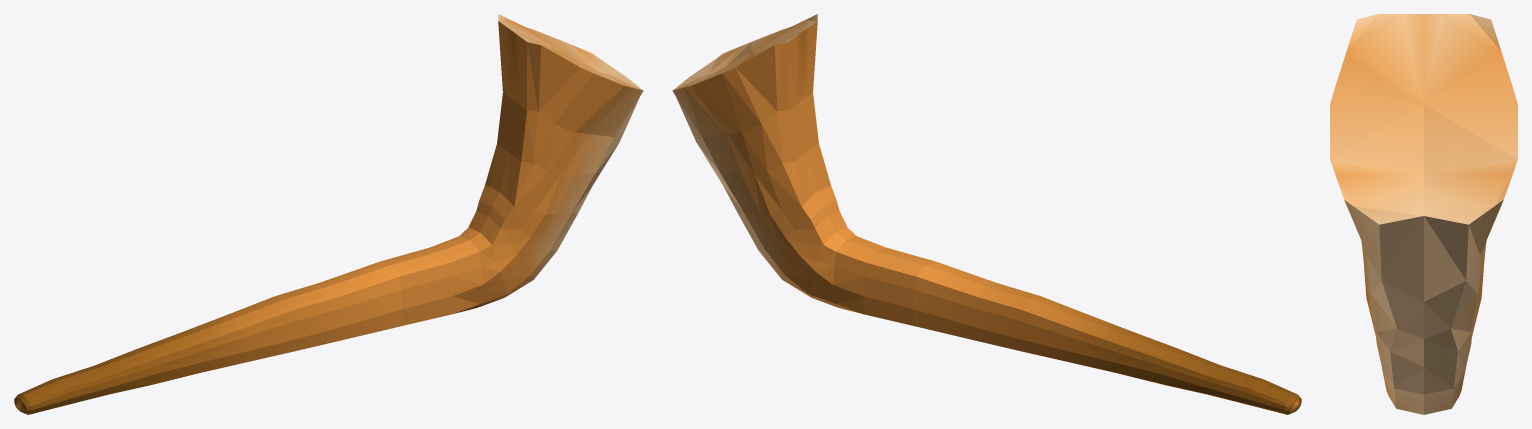
The model's file is kangaroo_tail.obj.
3 views of the same model, side by side, from view 1: azimuth 30°, elevation 25°; view 2: azimuth 150°, elevation 25°; view 3: azimuth 270°, elevation 25° (orthographic). The views are drawn at different scales.
Visible parts, largest first — view 1: Plane.003; view 2: Plane.003; view 3: Plane.003.
Part boxes in pixels (x1,y1,x2,y2): Plane.003: (14,14,643,414); Plane.003: (672,14,1301,414); Plane.003: (1330,14,1517,414).
Size of the model in its own units: 1.34 by 0.5546 by 0.2271.
